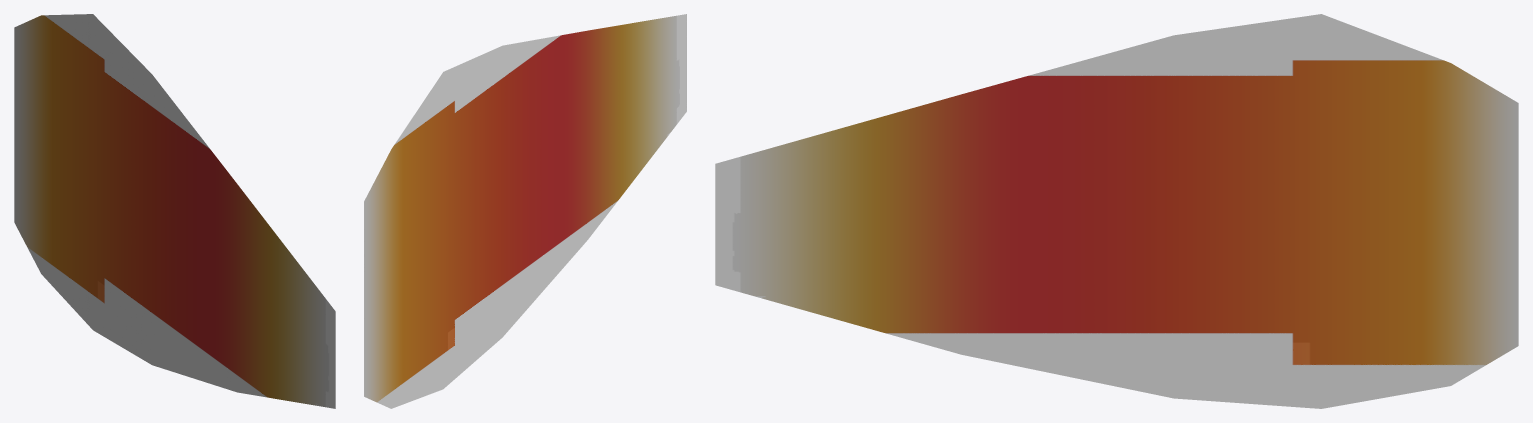
The model's file is Flame_2.fbx.
The picture shows the model from 3 angles, left to right: view 1: azimuth 30°, elevation 25°; view 2: azimuth 150°, elevation 25°; view 3: azimuth 270°, elevation 25°; orthographic projection. The views are drawn at different scales.
Visible parts, largest first — view 1: pCube2; view 2: pCube2; view 3: pCube2.
Part boxes in pixels (x1=…): pCube2: x1=14, y1=14, x2=335, y2=408; pCube2: x1=364, y1=14, x2=686, y2=408; pCube2: x1=715, y1=14, x2=1518, y2=408.
Bounding box in the file's own units: 2.28e-14 × 202 × 373.
Materials: 1 (1 with a texture image).
